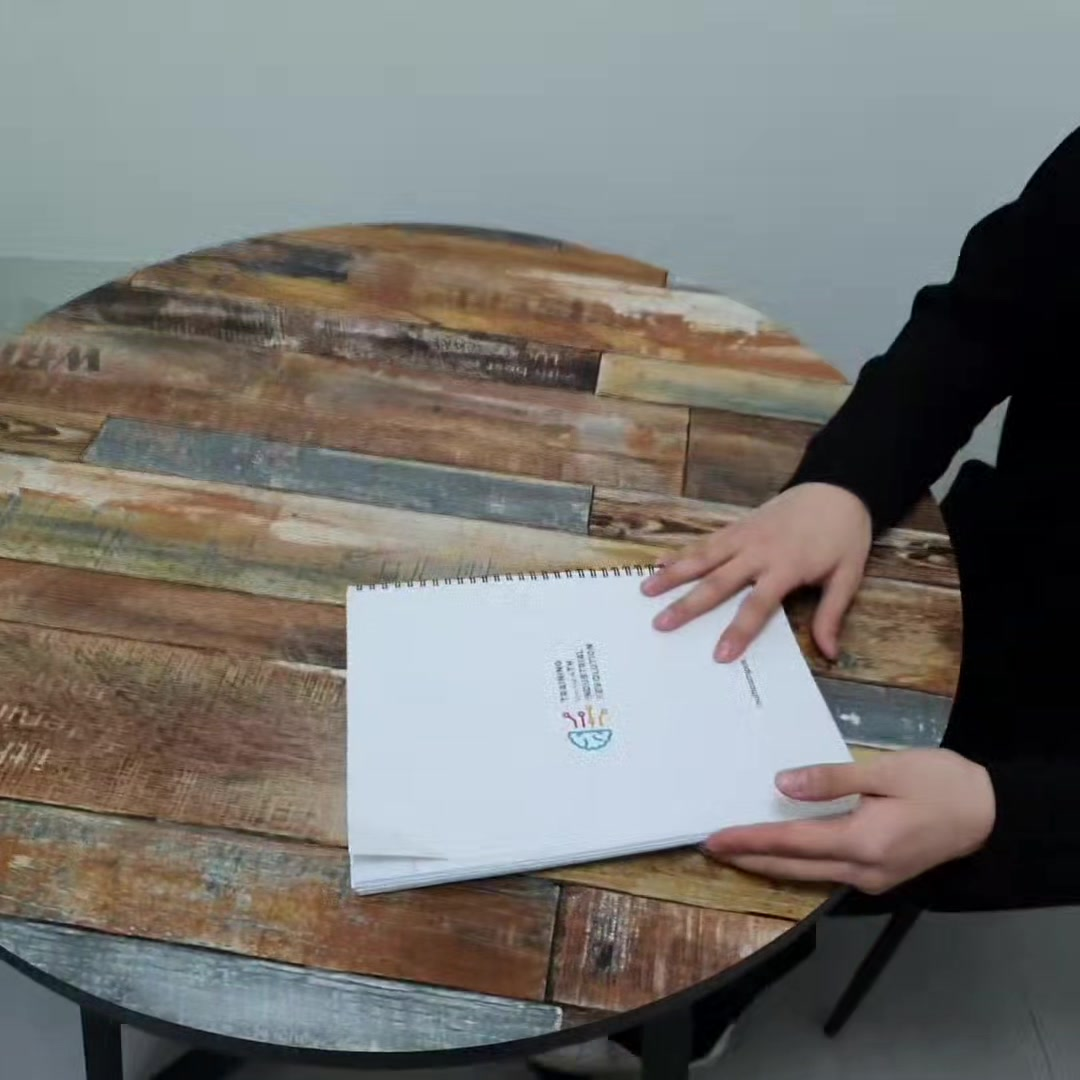book: (326, 530, 870, 897)
